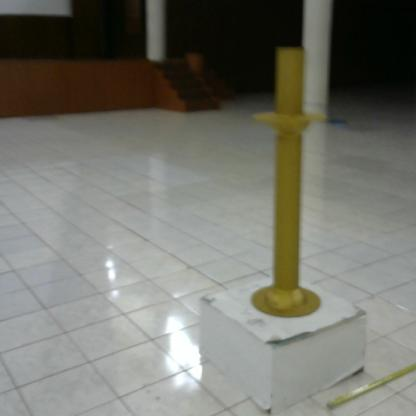pole: (248, 40, 337, 325)
